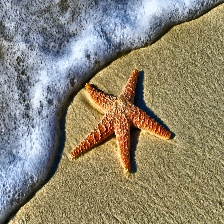starfish: (68, 69, 176, 176)
